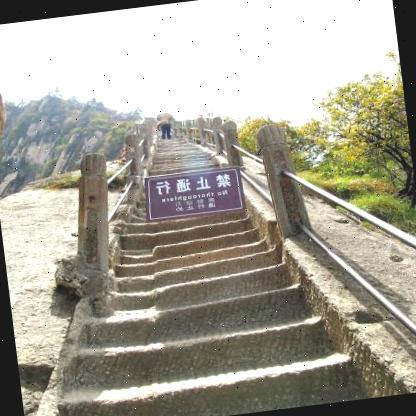stair: (40, 105, 351, 416)
